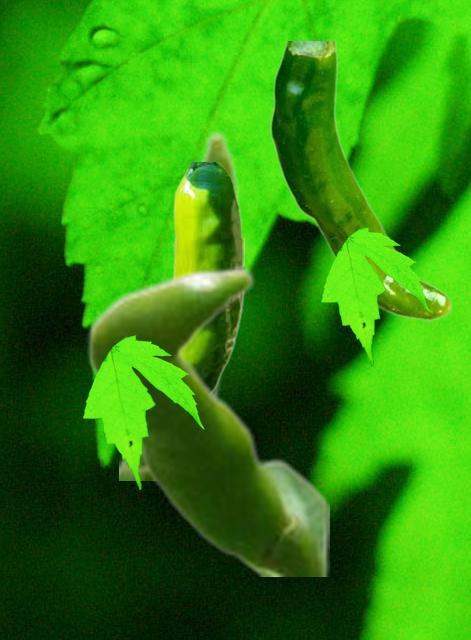green_chili: (86, 266, 328, 575), (270, 41, 451, 320), (119, 129, 241, 479), (170, 162, 243, 390)
